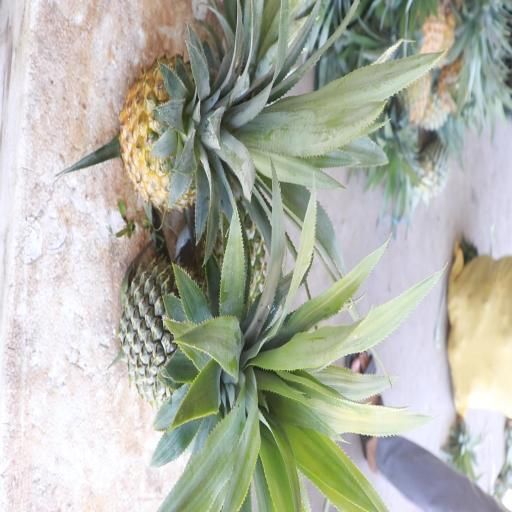Pineapple - v8 v1: (116, 46, 306, 217)
